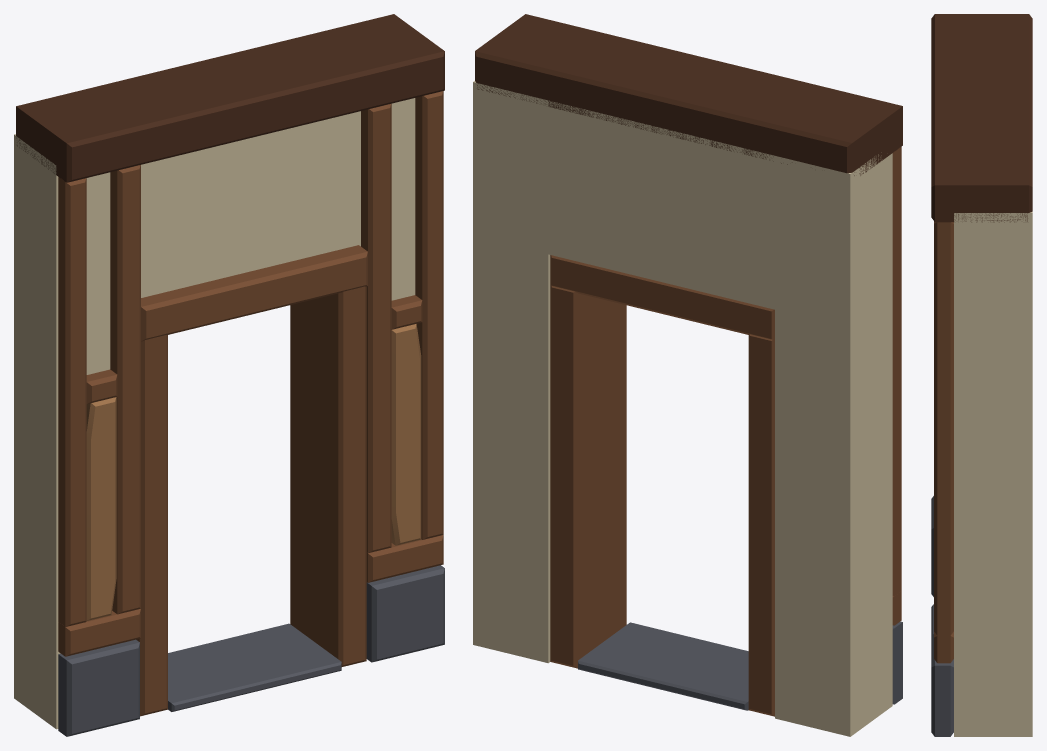
The model's file is WallDoor_14.glb.
3 renders of one model, left to right at view 1: azimuth 30°, elevation 25°; view 2: azimuth 150°, elevation 25°; view 3: azimuth 270°, elevation 25°, orthographic. The views are drawn at different scales.
Visible parts, largest first — view 1: WallDoor_14; view 2: WallDoor_14; view 3: WallDoor_14.
Part boxes in pixels (<box>): WallDoor_14: <box>14,14,444,736</box>; WallDoor_14: <box>473,14,902,736</box>; WallDoor_14: <box>931,14,1032,736</box>.
Size of the model in its own units: 8 by 12 by 2.
